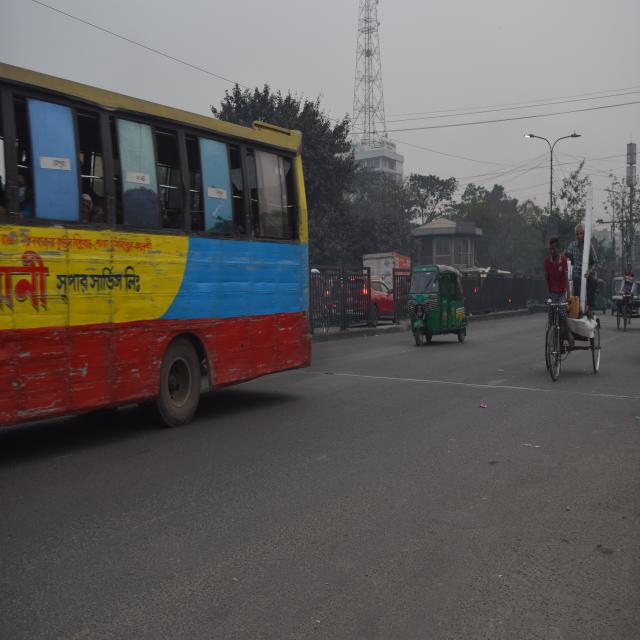bus: (0, 49, 315, 418)
